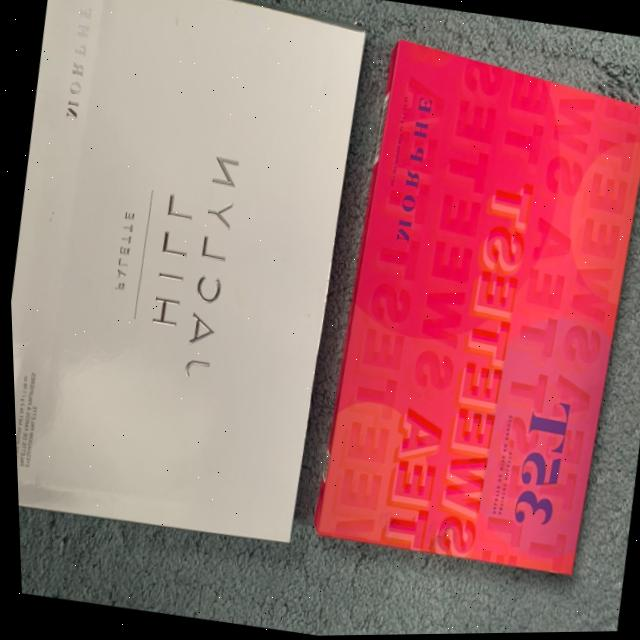eye shade: (313, 51, 640, 583)
powder: (0, 0, 369, 544)
